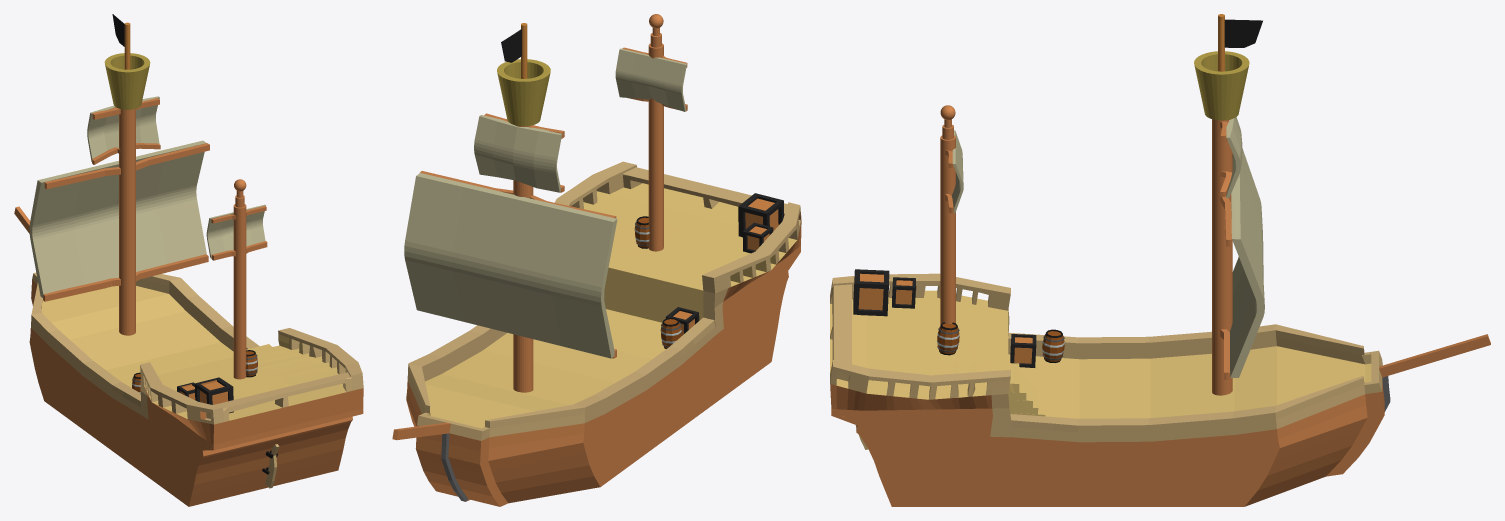
The model's file is SHIPfinal.fbx.
3 views of the same model, side by side, from view 1: azimuth 30°, elevation 25°; view 2: azimuth 150°, elevation 25°; view 3: azimuth 270°, elevation 25° (orthographic). The views are drawn at different scales.
Visible parts, largest first — view 1: Cube, Cube.002; view 2: Cube, Cube.002, Cube.003, Cylinder.001, Cube.001; view 3: Cube, Cube.002, Cube.001, Cube.003.
Boxes of the visible parts, left/top/right/bottom form: Cube: left=14, top=14, right=363, bottom=506; Cube.002: left=194, top=377, right=233, bottom=413; Cube: left=392, top=14, right=801, bottom=506; Cube.002: left=738, top=193, right=784, bottom=236; Cube.003: left=742, top=222, right=773, bottom=253; Cylinder.001: left=660, top=317, right=681, bottom=348; Cube.001: left=665, top=307, right=699, bottom=335; Cube: left=830, top=14, right=1490, bottom=506; Cube.002: left=853, top=269, right=889, bottom=316; Cube.001: left=1010, top=334, right=1036, bottom=367; Cube.003: left=892, top=277, right=915, bottom=308.
Size of the model in its own units: 1422 by 2714 by 3635.
